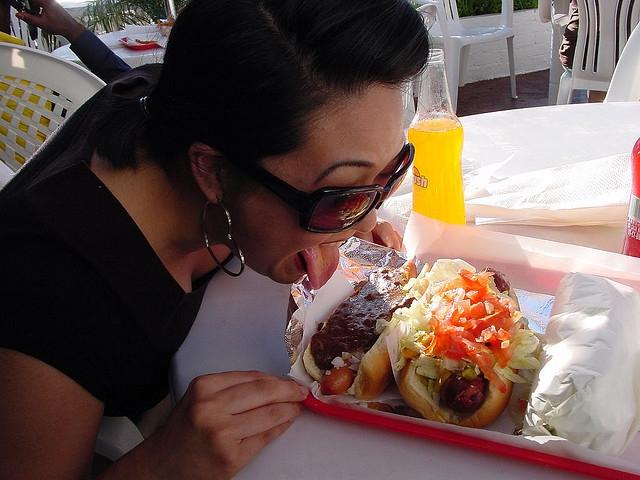tomato: (472, 354, 507, 394), (468, 308, 504, 336), (456, 268, 492, 291), (452, 336, 494, 354), (432, 333, 464, 356), (444, 288, 465, 320), (434, 317, 464, 337), (491, 341, 508, 369), (494, 328, 514, 343), (450, 304, 465, 322), (480, 326, 496, 342), (471, 302, 486, 319), (508, 305, 522, 323), (456, 330, 475, 342), (478, 284, 490, 300), (464, 319, 476, 334), (487, 298, 503, 309), (482, 293, 498, 302), (458, 300, 470, 312), (452, 317, 468, 326), (478, 342, 494, 350), (496, 339, 503, 349), (448, 332, 456, 340)
